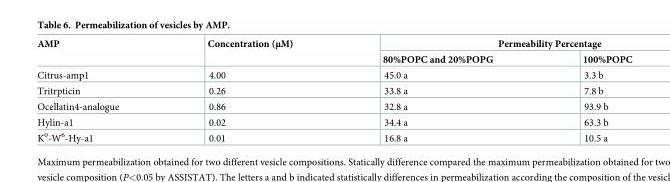table: (36, 36, 631, 143)
table column: (337, 36, 537, 143), (162, 36, 337, 143), (36, 36, 162, 143), (537, 36, 631, 143)
table column header: (36, 36, 631, 66)
table row: (36, 66, 631, 82), (36, 82, 631, 98), (36, 98, 631, 114), (36, 36, 631, 51), (36, 51, 631, 66), (36, 114, 631, 129), (36, 129, 631, 143)
table spanning cell: (162, 36, 337, 66), (337, 36, 631, 51), (36, 36, 162, 66)
